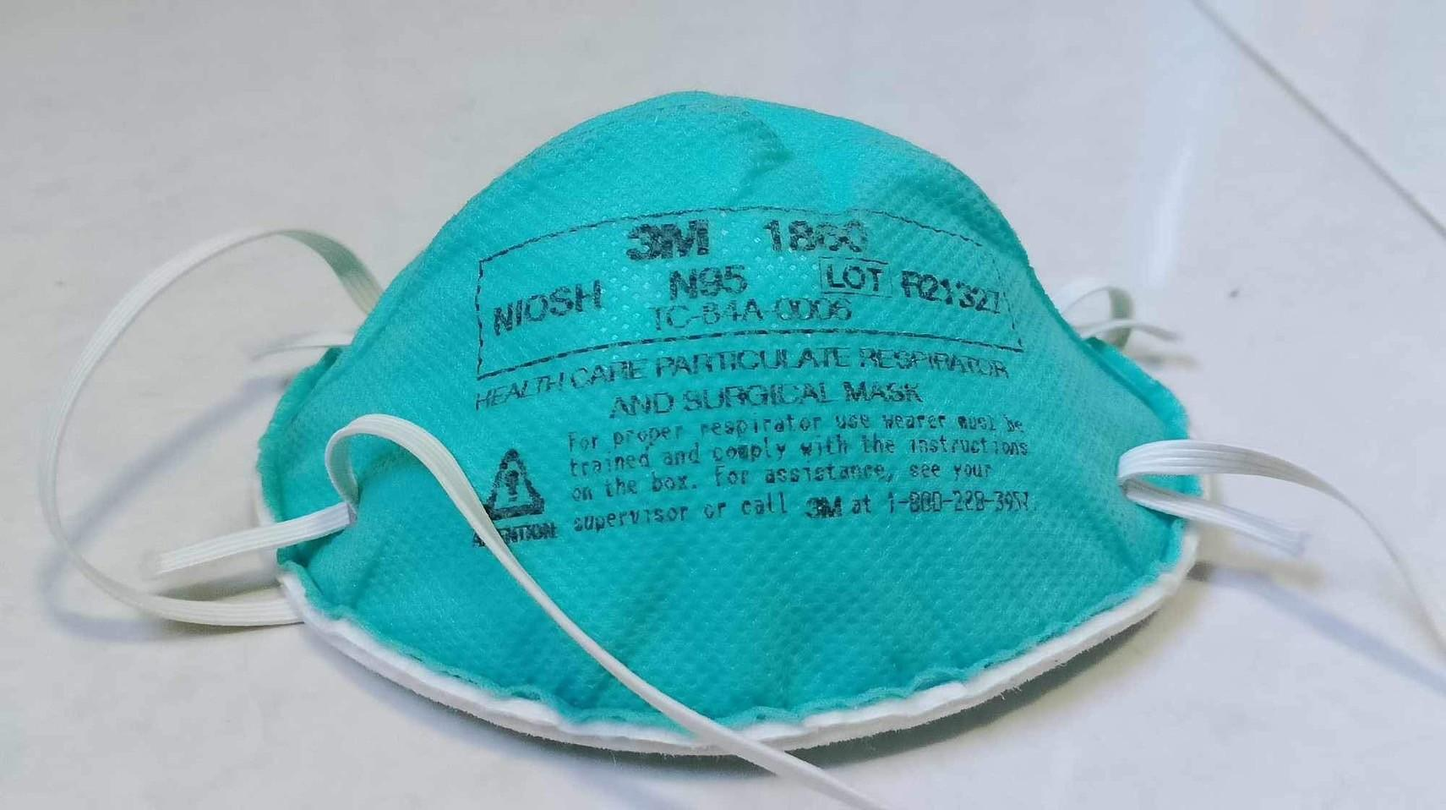Pathological: (249, 87, 1208, 760)
Sharps: (297, 411, 892, 807), (1115, 437, 1443, 646)
